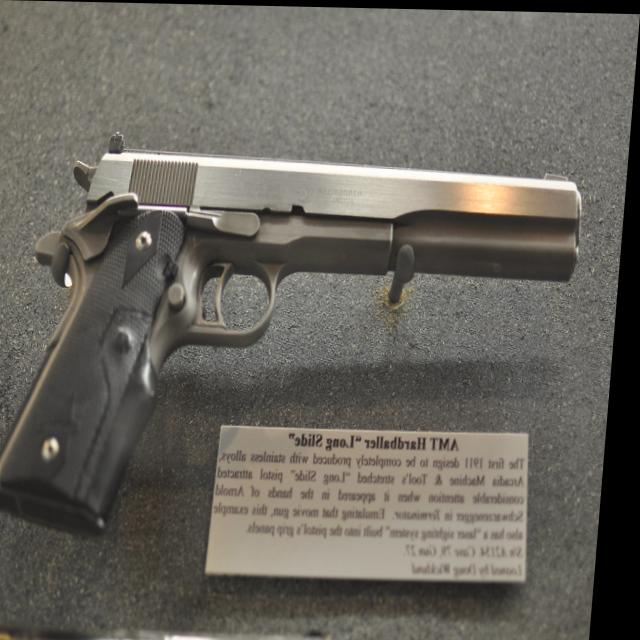handgun: (0, 131, 589, 534)
